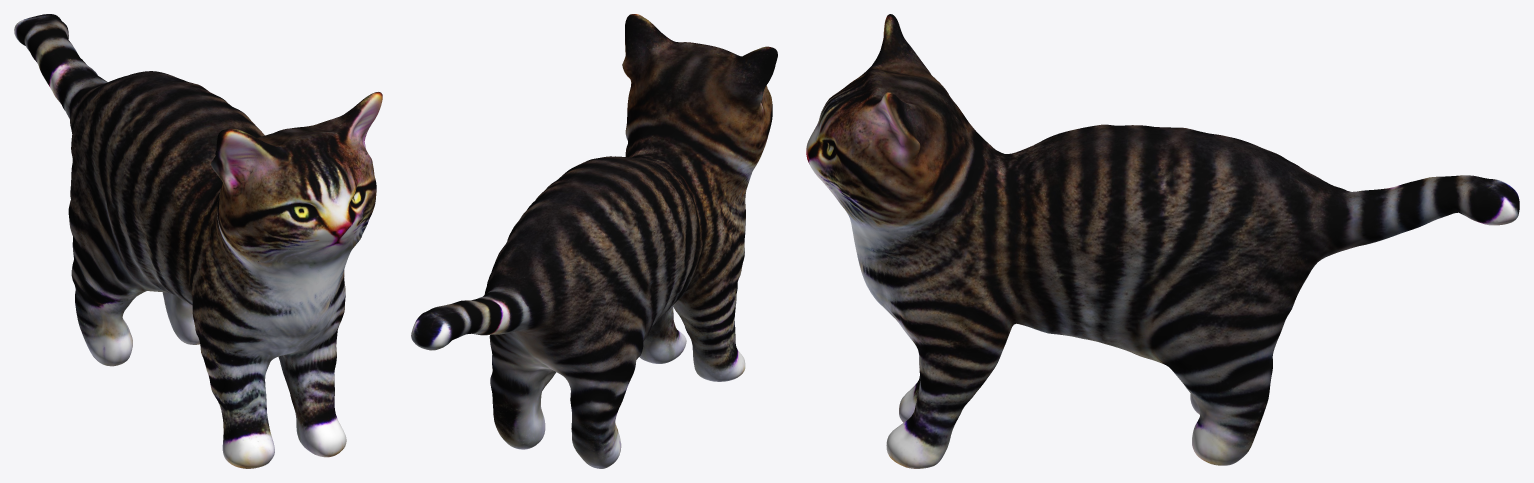
File: cat.glb
3 renders of one model, left to right at view 1: azimuth 30°, elevation 25°; view 2: azimuth 150°, elevation 25°; view 3: azimuth 270°, elevation 25°, orthographic. The views are drawn at different scales.
Visible parts, largest first — view 1: high_poly_0; view 2: high_poly_0; view 3: high_poly_0.
Part boxes in pixels (x1,y1,x2,y2): high_poly_0: [14, 14, 382, 468]; high_poly_0: [411, 14, 777, 468]; high_poly_0: [806, 14, 1519, 468].
Size of the model in its own units: 0.2899 by 0.6032 by 1.
Materials: 1 (1 with a texture image).
